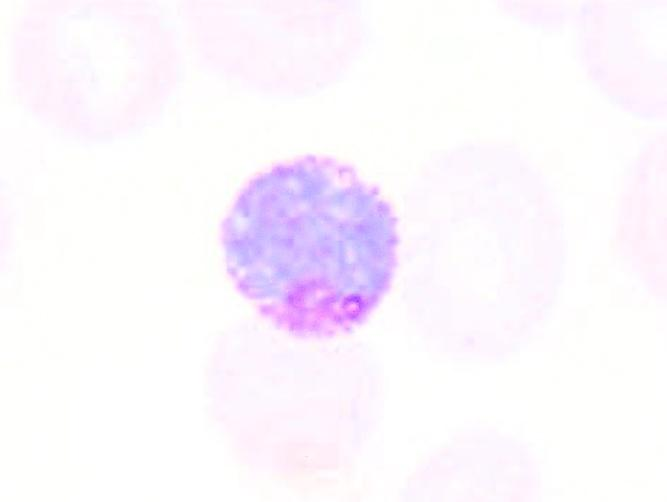Infected: (219, 154, 397, 334)
